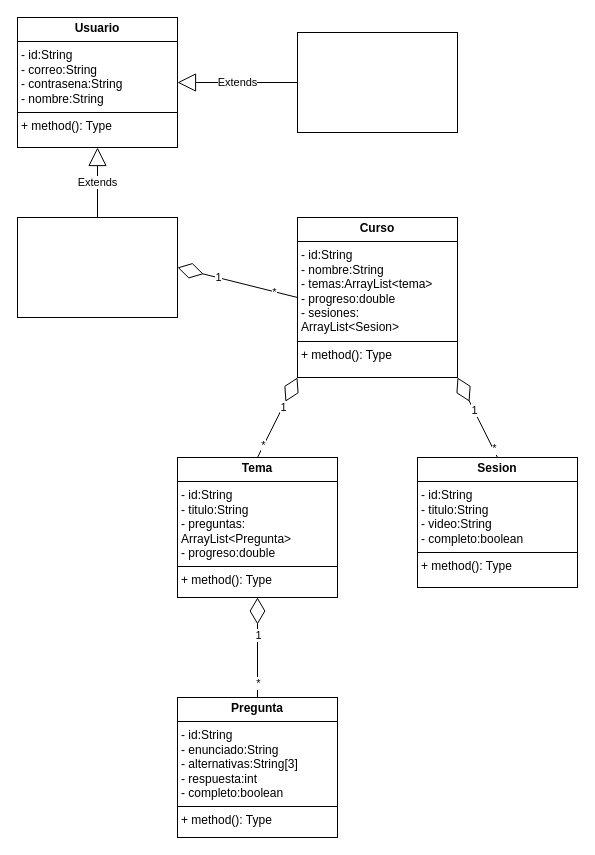
Image size: 595x855. Some labels were removed from this diagram. The centre of each missing label's shape, as x and y in pixels:
Alumno - listaCursos: ArrayList<Cursos> + method(): Type: (97,267)
Profesor - listaAlumnos: ArrayList<Alumno> + method(): Type: (377,82)
